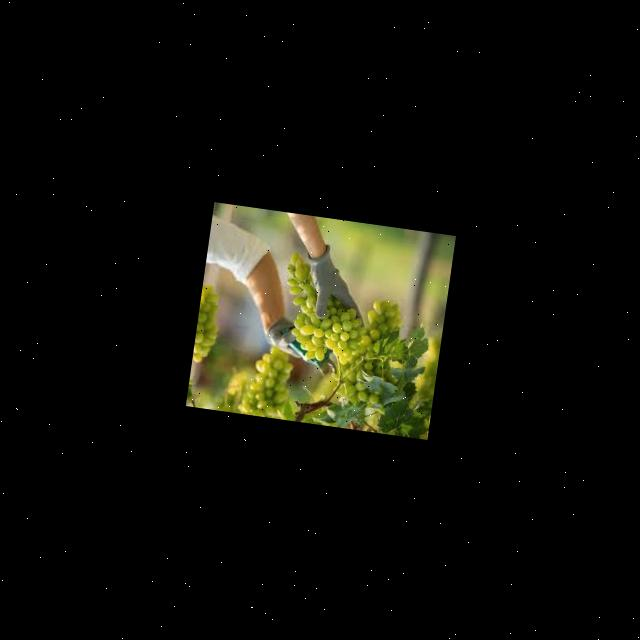grape: (290, 296, 364, 367), (191, 284, 223, 366)
